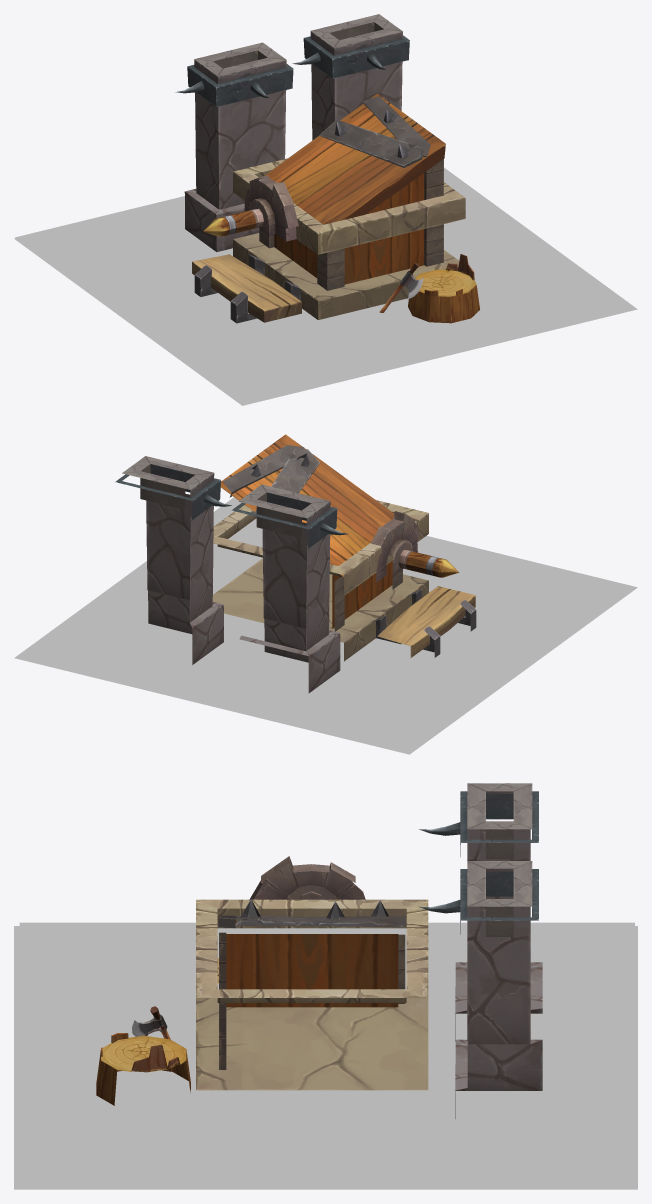
File: The main city_023_LV08.FBX
The picture shows the model from 3 angles, top to bottom: view 1: azimuth 30°, elevation 25°; view 2: azimuth 150°, elevation 25°; view 3: azimuth 270°, elevation 25°; orthographic projection. The views are drawn at different scales.
Parts seen in each view (by area): view 1: The main city_023_LV08; view 2: The main city_023_LV08; view 3: The main city_023_LV08.
Boxes of the visible parts, box(x1,y1,x2,y2) form: The main city_023_LV08: box(14, 14, 637, 405); The main city_023_LV08: box(14, 434, 637, 754); The main city_023_LV08: box(14, 783, 637, 1189).
Bounding box in the file's own units: 59.98 × 25.25 × 59.9.
